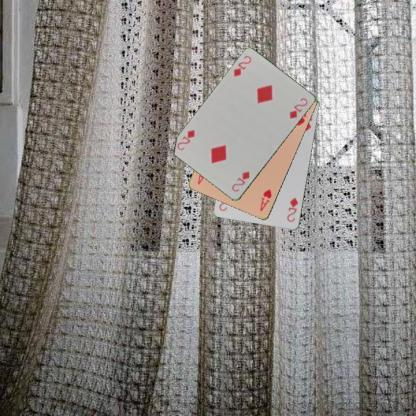2d: (229, 168, 251, 194), (232, 53, 252, 78), (284, 194, 300, 224)
Ah: (257, 186, 273, 212)
